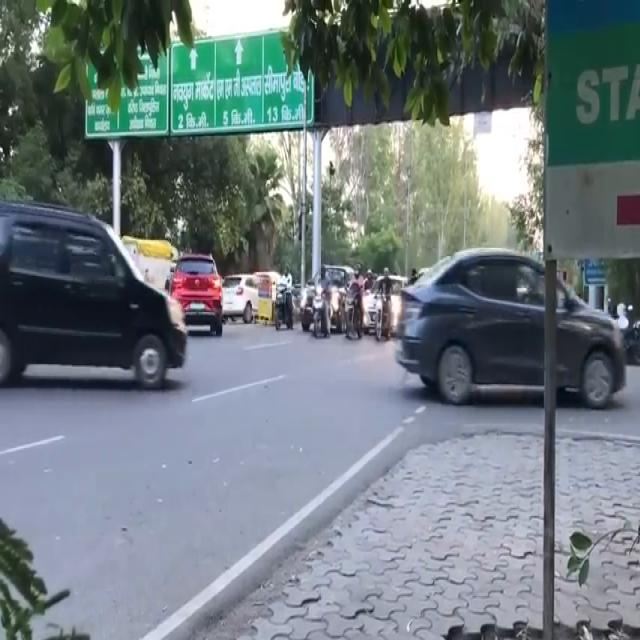MOTORCYCLE: (272, 284, 294, 332), (314, 281, 332, 339), (371, 294, 392, 339)
SED: (397, 247, 630, 410)
SUV: (0, 205, 187, 391)
